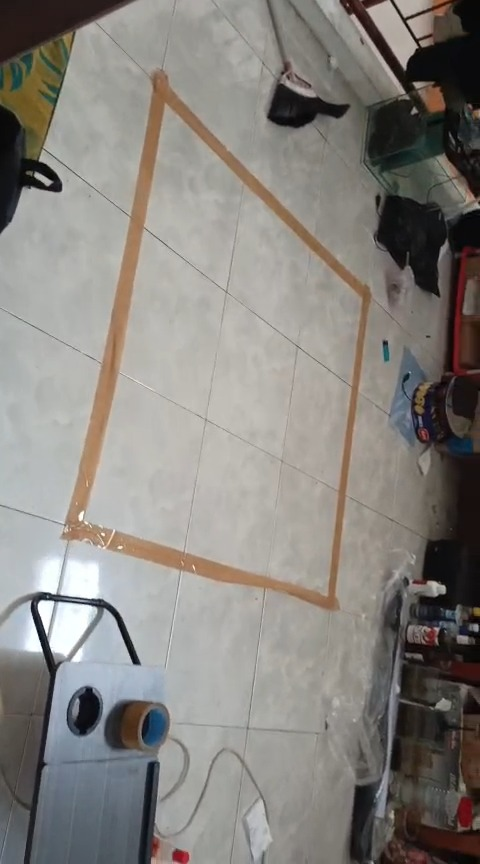floor marking: (62, 71, 369, 609)
